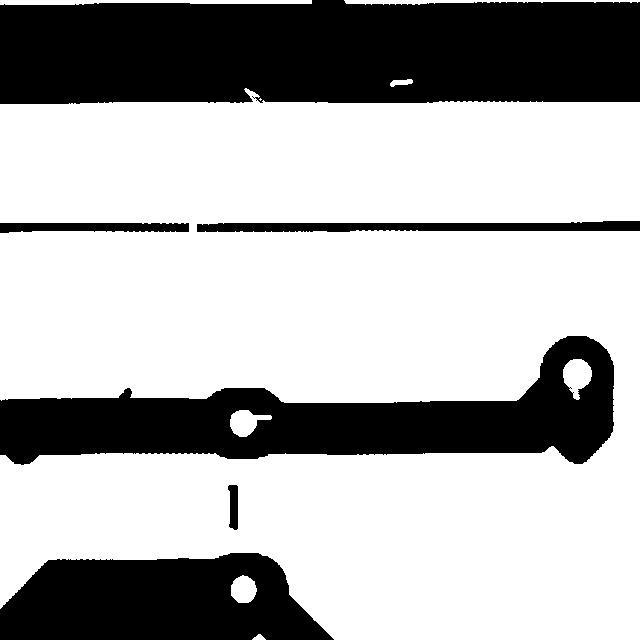copper: (218, 475, 247, 539)
mousebite: (234, 78, 274, 113), (554, 370, 589, 409), (241, 405, 281, 429)
open: (179, 209, 206, 248)
pin-hole: (380, 69, 422, 96)
spur: (109, 378, 141, 413)
